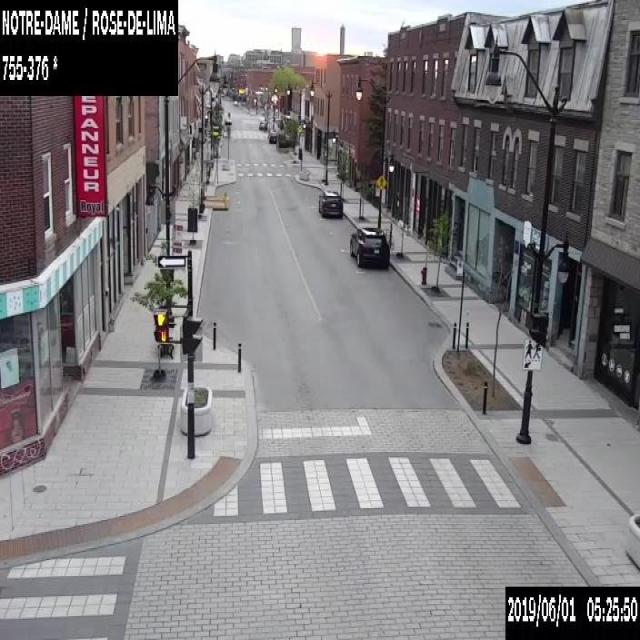vehicle: (349, 227, 389, 270), (318, 189, 342, 216), (268, 131, 276, 143), (258, 120, 266, 129), (232, 100, 236, 105)
